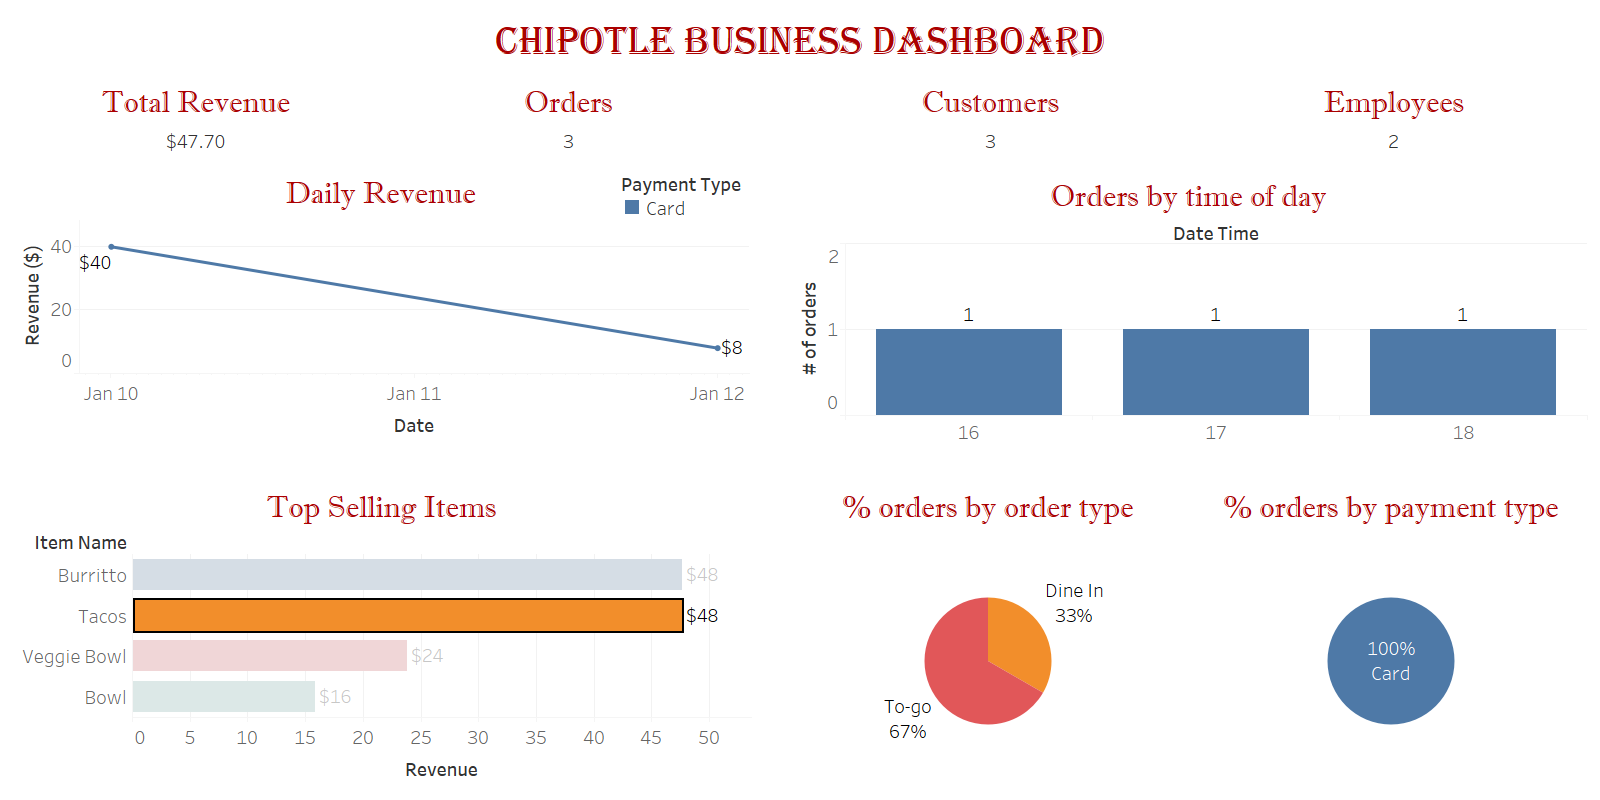

The dashboard page shown, as its layout file describes it:
{"tool":"tableau","page":{"name":"Dashboard 2","canvas":[1600,800],"ordinal":0},"visuals":[{"type":"title","box":[8,8,1584,66]},{"type":"worksheet","title":"Total Revenue","mark":"Automatic","box":[8,74,376,90.6]},{"type":"worksheet","title":"Total Orders","mark":"Automatic","box":[384,74,369,90.6]},{"type":"blank","box":[753,74,32,373.8]},{"type":"worksheet","title":"Cust","mark":"Automatic","box":[785,74,411,93.5]},{"type":"worksheet","title":"Emp","mark":"Automatic","box":[1196,74,396,93.5]},{"type":"worksheet","title":"Daily Revenue","mark":"Automatic","rows":["Calculation_2561140832460926976"],"cols":["date_time"],"box":[8,164.6,745,283.2]},{"type":"worksheet","title":"Orders by time of the day","mark":"Bar","rows":["order_id (order_line)"],"cols":["date_time"],"box":[785,167.5,807,280.3]},{"type":"legend","title":"Daily Revenue","param":"[federated.12do3a61g4g3e71fqtfud1kolr0k].[none:payment_type:nk]","box":[620,169,128,76]},{"type":"blank","box":[8,447.8,1584,31.6]},{"type":"worksheet","title":"Top selling items","mark":"Automatic","rows":["item_name"],"cols":["Calculation_2561140832460926976"],"box":[8,479.5,747,312.5]},{"type":"blank","box":[755,479.5,32,312.5]},{"type":"worksheet","title":"Order Type","mark":"Pie","box":[787,479.5,402.5,312.5]},{"type":"worksheet","title":"Payment Type","mark":"Pie","box":[1189.5,479.5,402.5,312.5]}]}

Visuals, with their boxes in screenshot pixels (x1, y1, x2, y2), scaled from the page's 1600x800 canvas onto the 1600x800 screenshot:
title: box=[8, 8, 1592, 74]
"Total Revenue" worksheet: box=[8, 74, 384, 165]
"Total Orders" worksheet: box=[384, 74, 753, 165]
blank: box=[753, 74, 785, 448]
"Cust" worksheet: box=[785, 74, 1196, 168]
"Emp" worksheet: box=[1196, 74, 1592, 168]
"Daily Revenue" worksheet: box=[8, 165, 753, 448]
"Orders by time of the day" worksheet (Bar marks): box=[785, 168, 1592, 448]
"Daily Revenue" legend: box=[620, 169, 748, 245]
blank: box=[8, 448, 1592, 479]
"Top selling items" worksheet: box=[8, 480, 755, 792]
blank: box=[755, 480, 787, 792]
"Order Type" worksheet (Pie marks): box=[787, 480, 1190, 792]
"Payment Type" worksheet (Pie marks): box=[1190, 480, 1592, 792]
